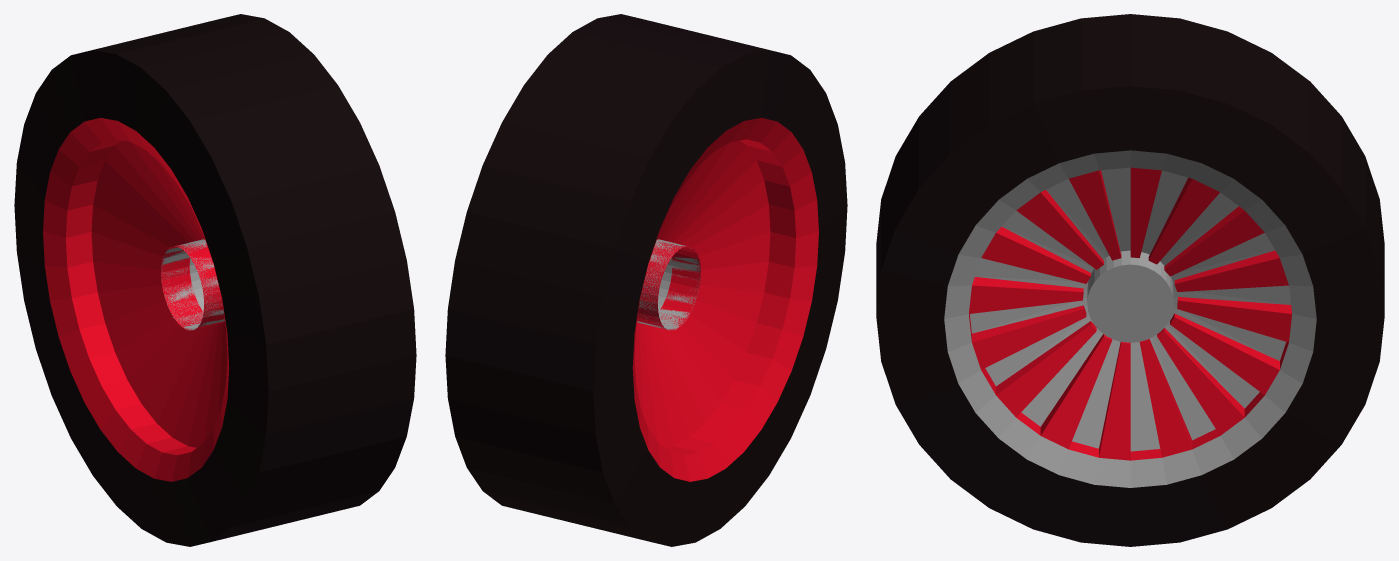
File: wheel_2.fbx
3 views of the same model, side by side, from view 1: azimuth 30°, elevation 25°; view 2: azimuth 150°, elevation 25°; view 3: azimuth 270°, elevation 25° (orthographic).
Parts seen in each view (by area): view 1: Wheel; view 2: Wheel; view 3: Wheel.
Boxes of the visible parts, left/top/right/bottom form: Wheel: left=14, top=14, right=416, bottom=546; Wheel: left=445, top=14, right=847, bottom=546; Wheel: left=876, top=14, right=1384, bottom=546.
Bounding box in the file's own units: 0.208 × 0.577 × 0.577.
